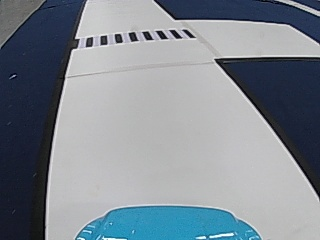CrossWalk: (73, 27, 193, 48)
